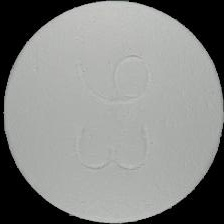0615-7726: (0, 0, 224, 224)
